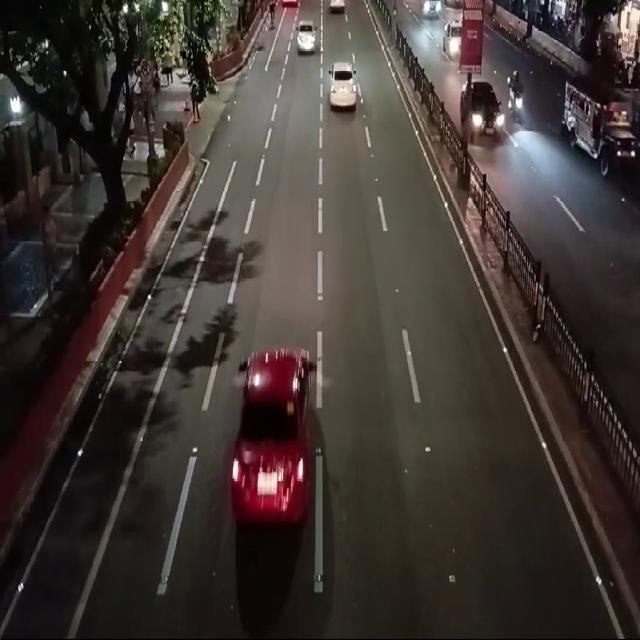car: (229, 329, 321, 526), (459, 66, 505, 149), (325, 50, 359, 124), (293, 13, 319, 65)
jeepney: (551, 65, 640, 196)
motorcycle: (505, 53, 527, 132)
